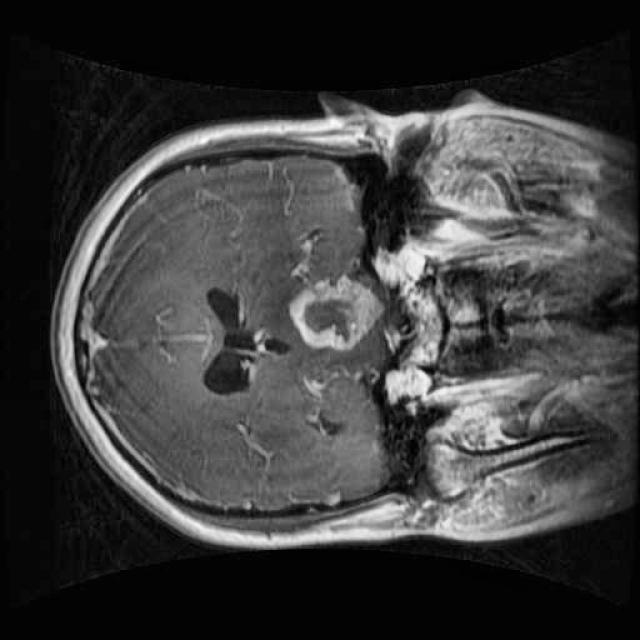Non-Tumor: (285, 260, 392, 364)
